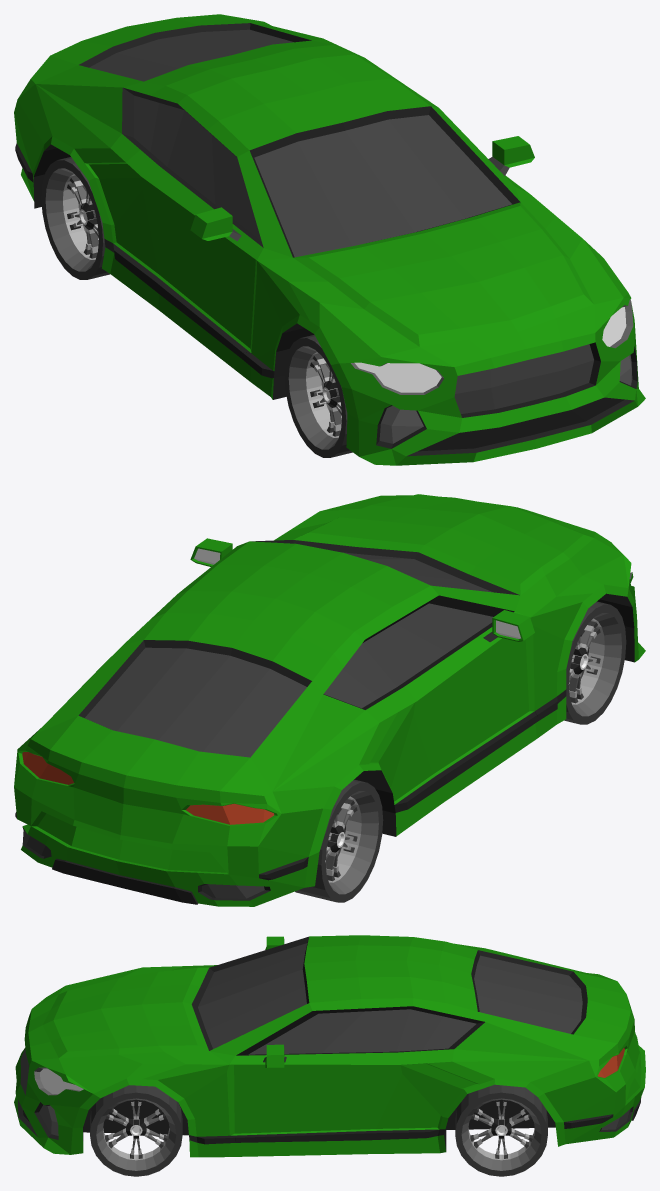
The model's file is bentleycontinentalgt(2024).fbx.
The picture shows the model from 3 angles, top to bottom: view 1: azimuth 30°, elevation 25°; view 2: azimuth 150°, elevation 25°; view 3: azimuth 270°, elevation 25°; orthographic projection. The views are drawn at different scales.
Visible parts, largest first — view 1: GreenBody, BackRight, FrontRight; view 2: GreenBody, BackRight, FrontRight; view 3: GreenBody, BackLeft, FrontLeft.
Part boxes in pixels (x1=…): GreenBody: x1=14, y1=14, x2=645, y2=465; BackRight: x1=41, y1=157, x2=109, y2=279; FrontRight: x1=284, y1=334, x2=352, y2=457; GreenBody: x1=14, y1=494, x2=645, y2=906; BackRight: x1=295, y1=779, x2=383, y2=902; FrontRight: x1=564, y1=601, x2=626, y2=724; GreenBody: x1=14, y1=935, x2=645, y2=1157; BackLeft: x1=455, y1=1084, x2=547, y2=1176; FrontLeft: x1=90, y1=1085, x2=182, y2=1176.
Size of the model in its own units: 2.21 by 4.82 by 1.39.
